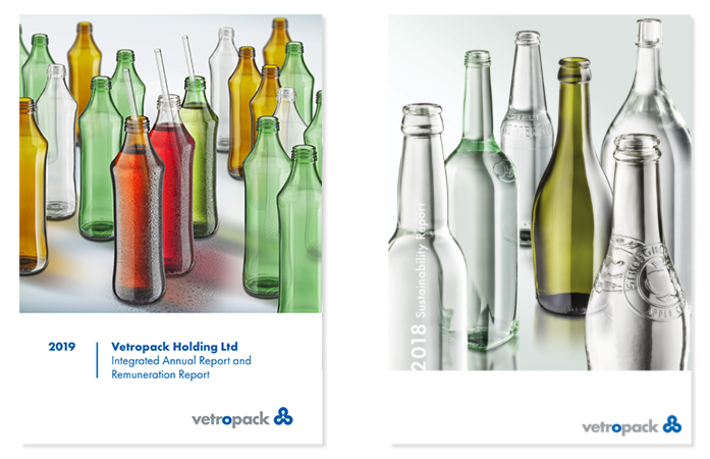glass_bottleww: (439, 38, 559, 382), (593, 7, 702, 304), (486, 19, 590, 318), (581, 100, 690, 383), (392, 67, 489, 382), (545, 26, 613, 363), (94, 106, 173, 319), (135, 59, 201, 304), (166, 25, 227, 252), (64, 50, 126, 265), (233, 106, 297, 305), (19, 85, 75, 294), (189, 12, 243, 211), (35, 62, 86, 252), (102, 18, 147, 230), (223, 26, 270, 228), (18, 16, 84, 155), (275, 118, 319, 322), (52, 13, 108, 165), (263, 88, 313, 226), (274, 32, 320, 181), (256, 15, 301, 164), (247, 49, 286, 168), (303, 71, 318, 206)
